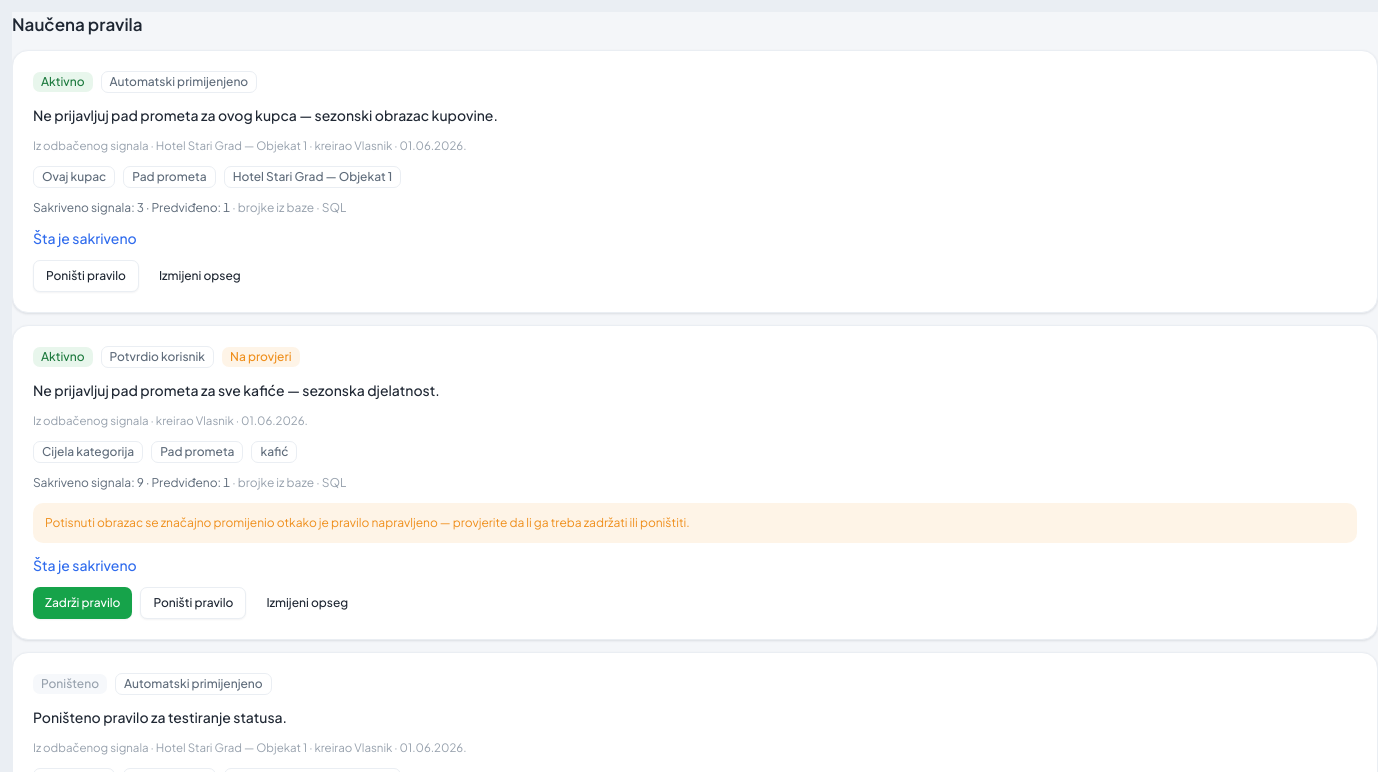
LearnedTab (M11) — rules list › 'Šta je sakriveno' loads and shows the suppressed signals' evidence
Click the 1st button with test id "show-hidden-toggle": (85, 238) [33,228,137,248]
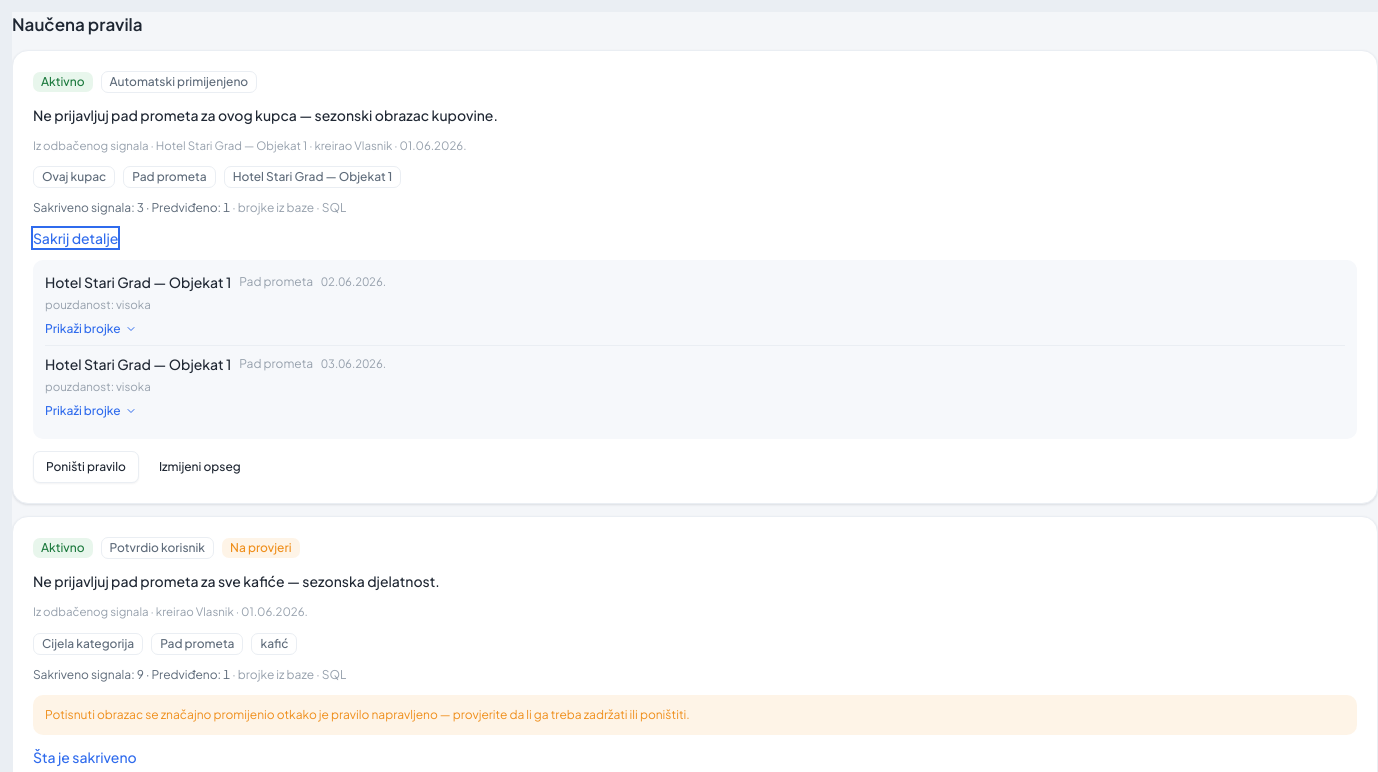
Expected: the element with test id "hidden-signals" shows "Hotel Stari Grad — Objekat 1", [45,273,231,291]
Expected: the element with test id "hidden-signals" shows "pouzdanost: visoka", [33,260,1357,439]
Expected: the element with test id "hidden-signals" shows "Prikaži brojke", [45,321,137,337]
